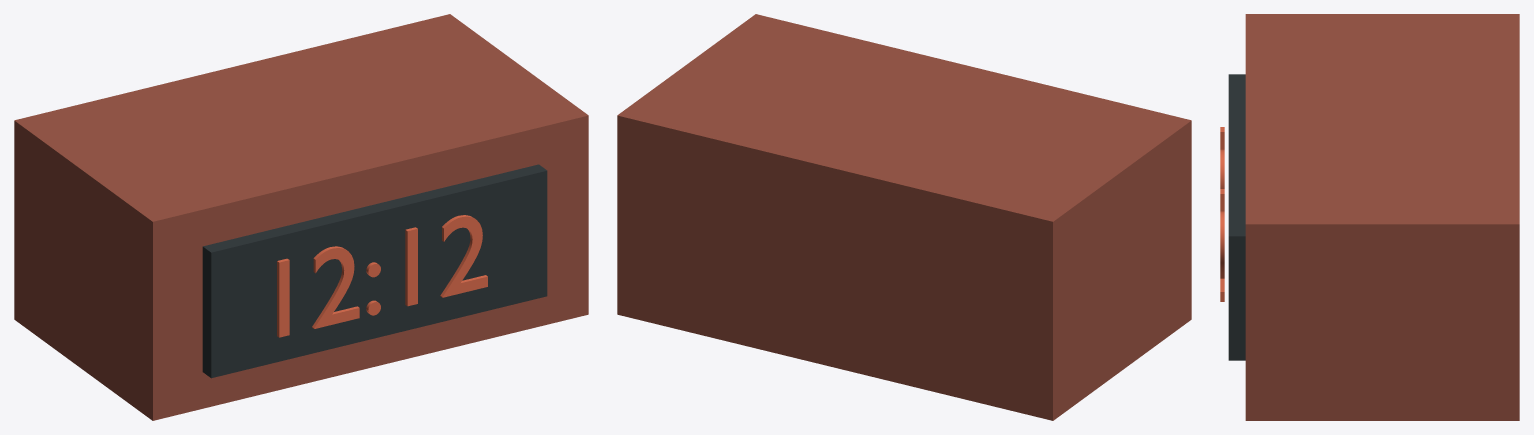
File: clock_1212.glb
The picture shows the model from 3 angles, left to right: view 1: azimuth 30°, elevation 25°; view 2: azimuth 150°, elevation 25°; view 3: azimuth 270°, elevation 25°; orthographic projection.
Visible parts, largest first — view 1: Clock body.001, Screen.001, 12:12; view 2: Clock body.001; view 3: Clock body.001, Screen.001, 12:12.
Boxes of the visible parts, x1,y1,x2,y2 form: Clock body.001: (14,14,588,420); Screen.001: (202,164,547,378); 12:12: (277,215,487,337); Clock body.001: (617,14,1191,420); Clock body.001: (1245,14,1519,420); Screen.001: (1228,74,1245,360); 12:12: (1220,127,1224,301).
Bounding box in the file's own units: 0.236 × 0.103 × 0.142.
